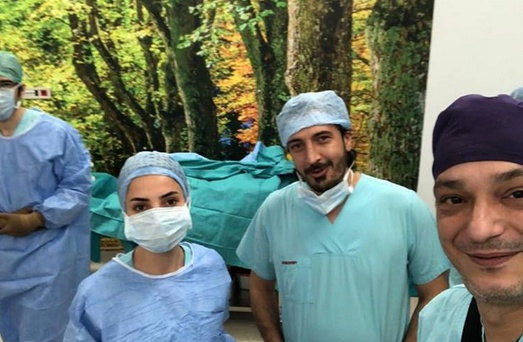mouth: (463, 248, 521, 268), (306, 166, 329, 178)
nose: (464, 226, 503, 242), (304, 156, 320, 164)
